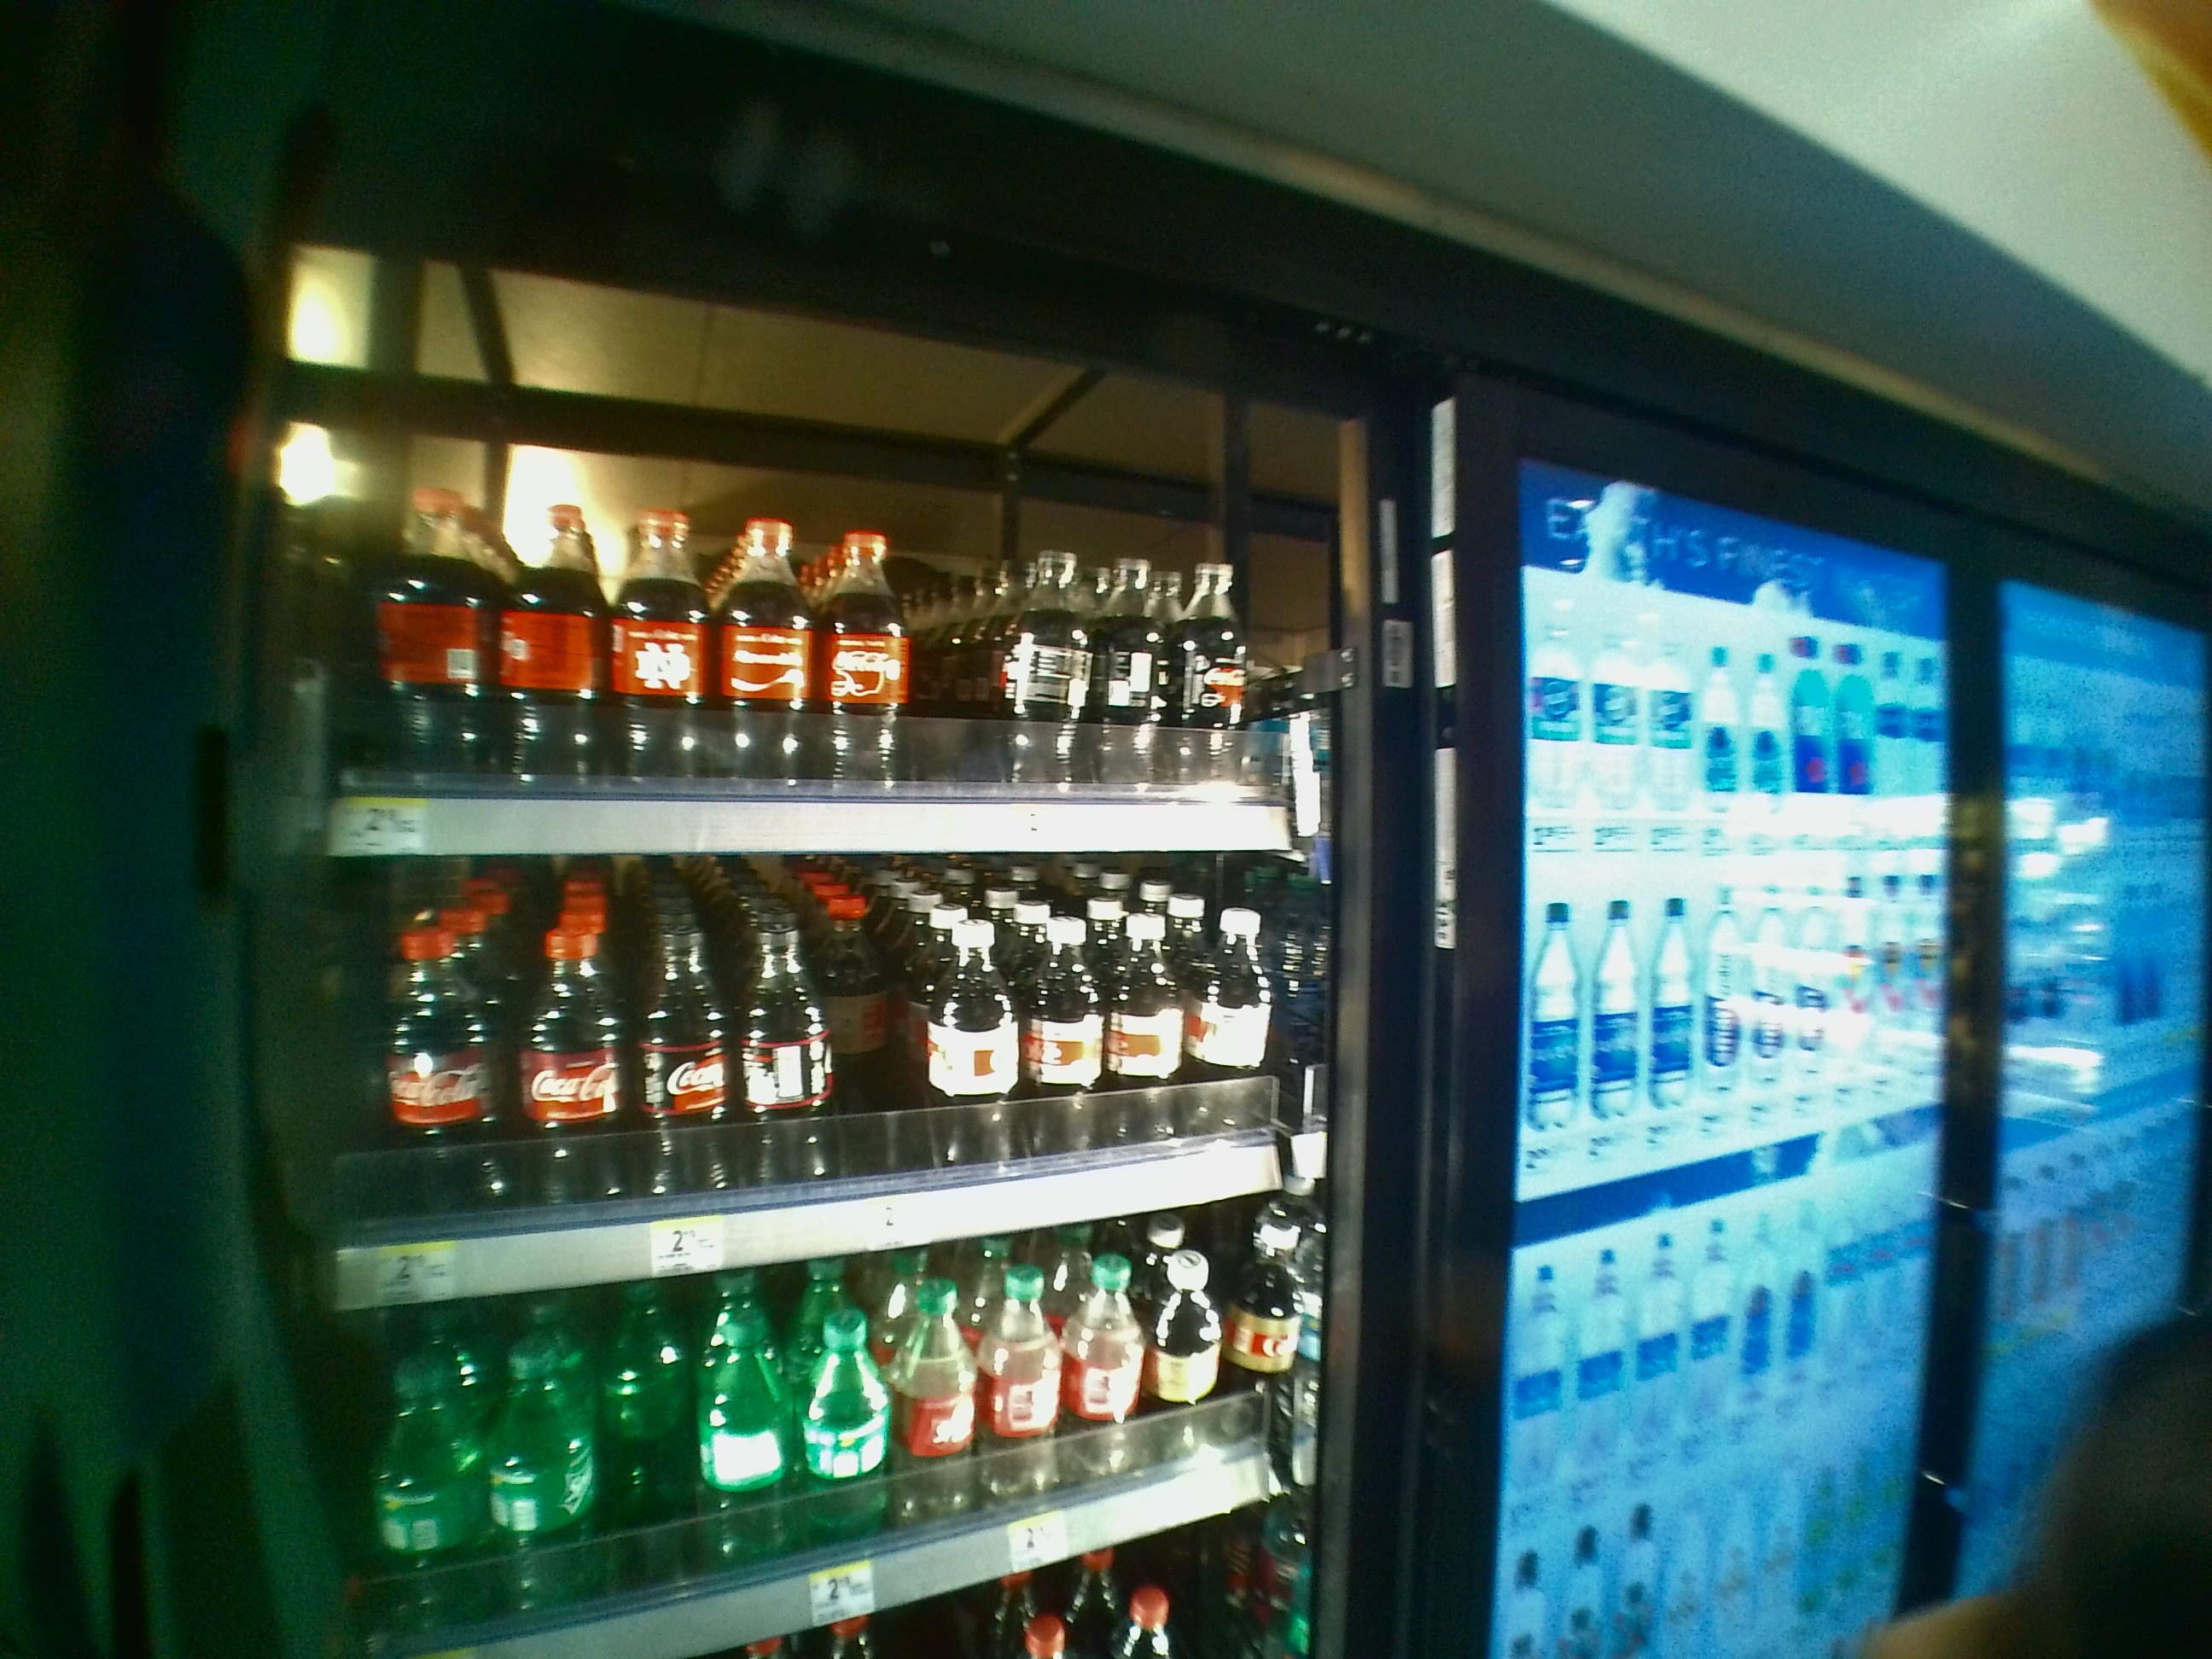shelf: (331, 315, 1322, 861), (336, 859, 1325, 1253), (361, 1249, 1299, 1588)
